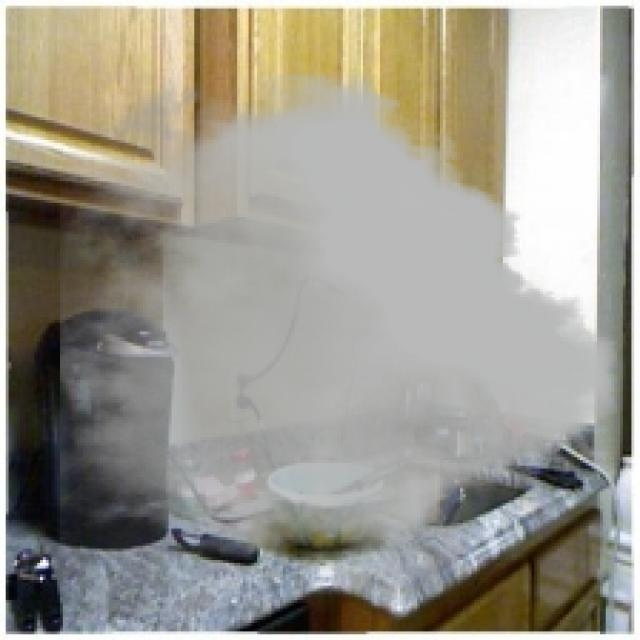Smoke: (60, 66, 617, 614)
